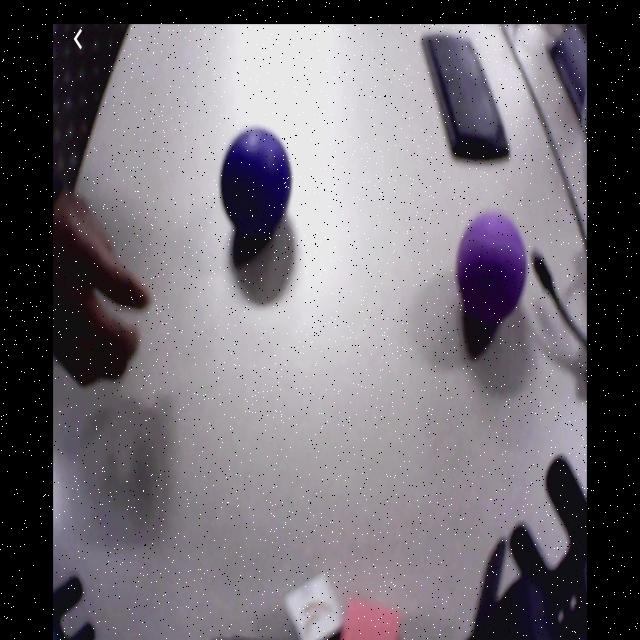ball: (220, 128, 291, 230), (457, 213, 525, 316)
